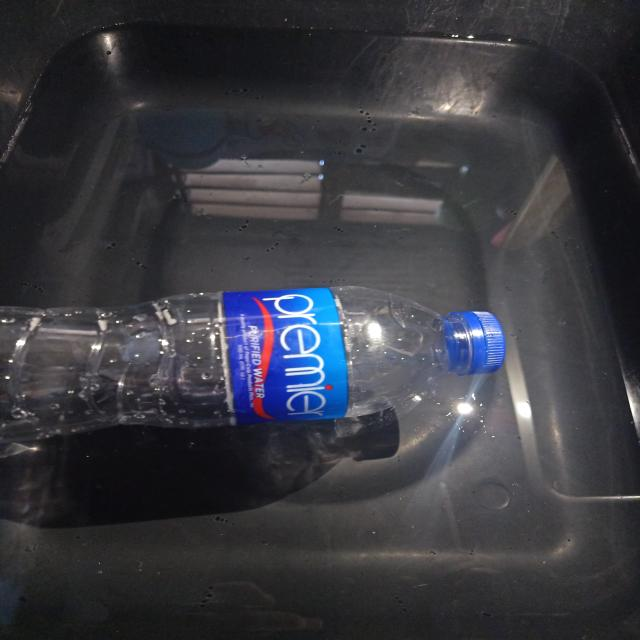Plastic Bottle: (0, 286, 505, 441)
